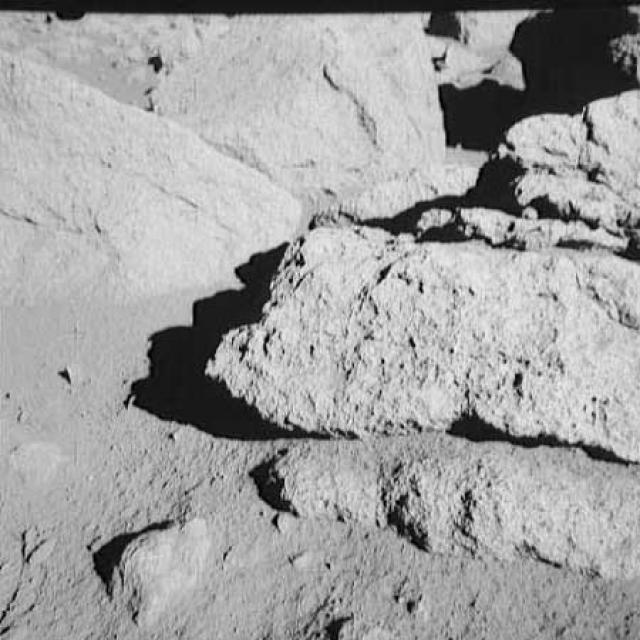rock: (217, 214, 638, 456), (0, 11, 458, 188), (0, 53, 298, 298), (254, 422, 638, 574), (485, 86, 639, 218), (85, 506, 226, 625)
